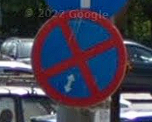oprirea_interzisa: (31, 12, 127, 105)
